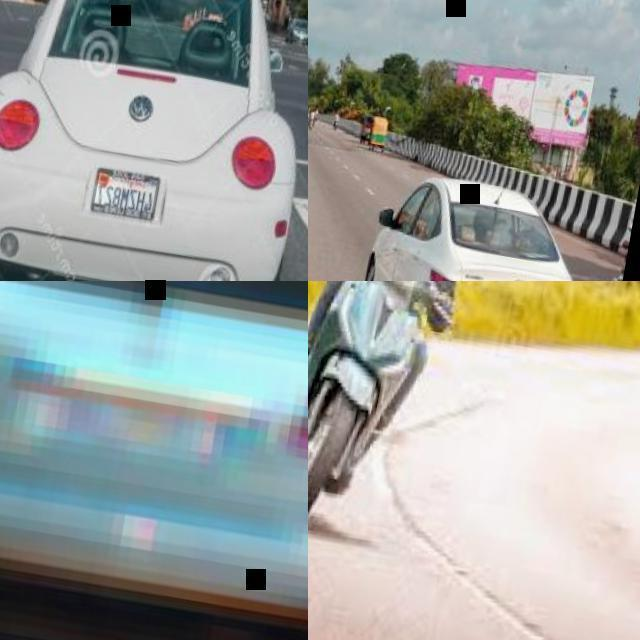car: (1, 0, 307, 384)
